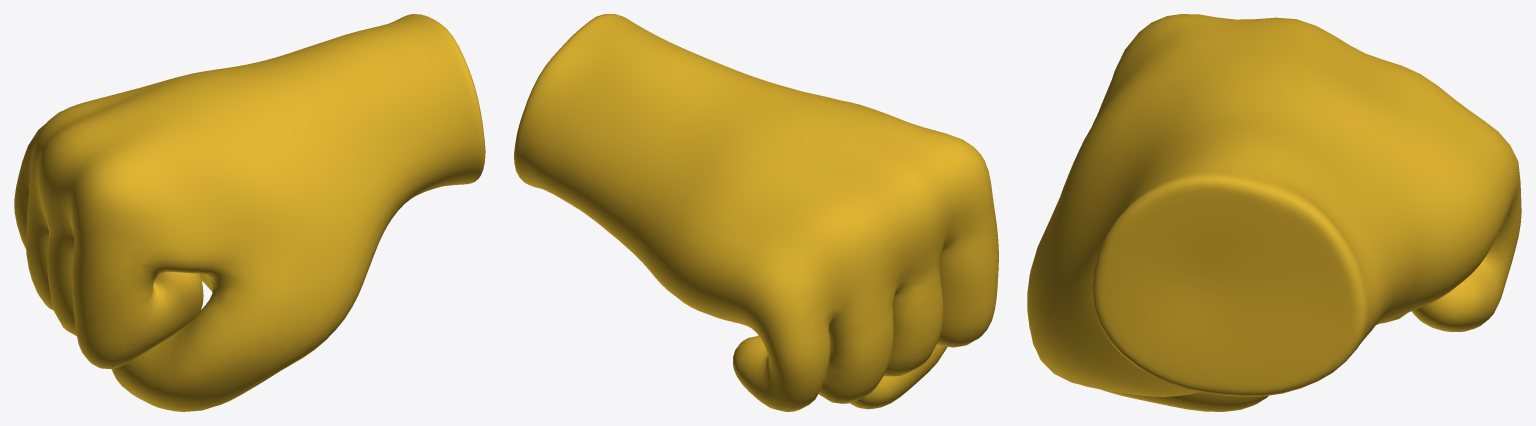
File: fisted left.glb
The picture shows the model from 3 angles, left to right: view 1: azimuth 30°, elevation 25°; view 2: azimuth 150°, elevation 25°; view 3: azimuth 270°, elevation 25°; orthographic projection. The views are drawn at different scales.
Visible parts, largest first — view 1: Group12839; view 2: Group12839; view 3: Group12839.
Boxes of the visible parts, x1,y1,x2,y2 form: Group12839: [14, 14, 485, 411]; Group12839: [514, 14, 998, 411]; Group12839: [1027, 14, 1521, 411].
Size of the model in its own units: 0.4601 by 0.3345 by 0.3634.
